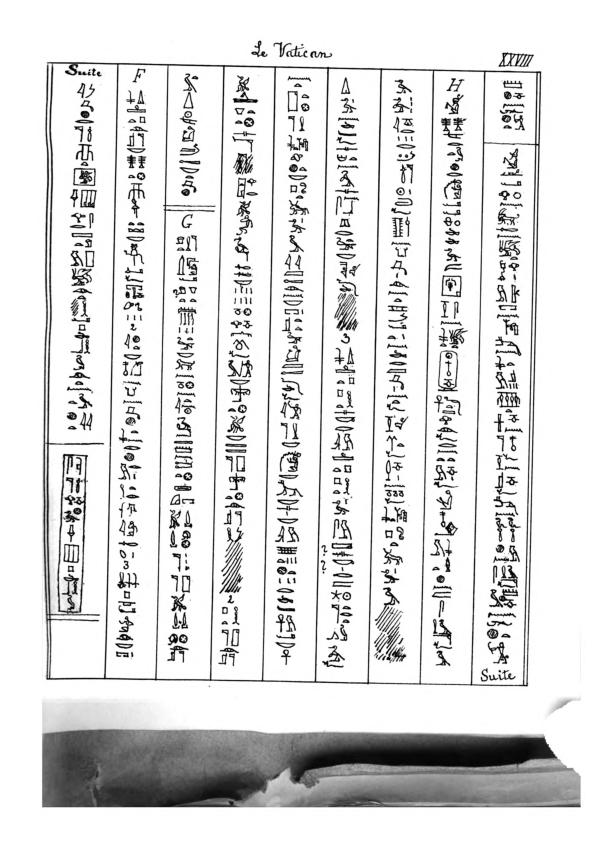circle: (437, 350, 460, 393)
